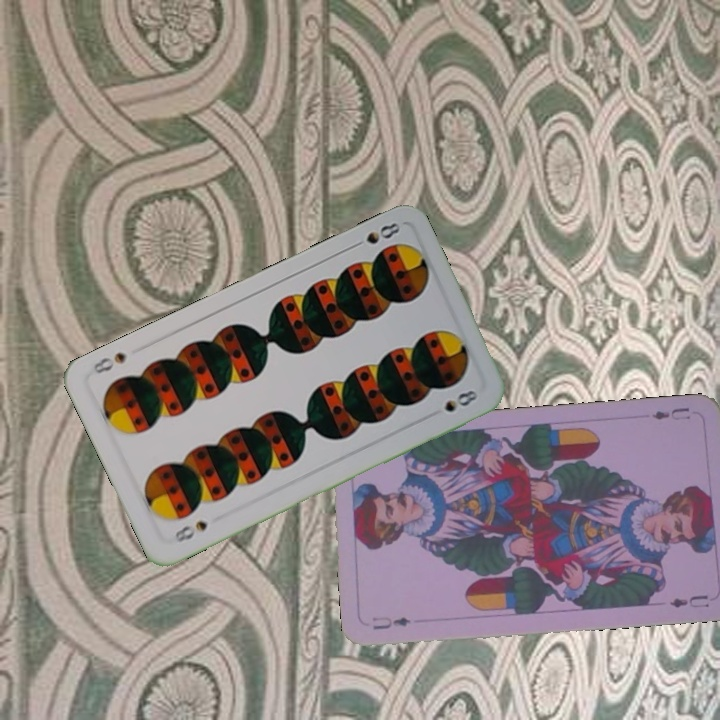EU: (648, 403, 693, 423), (368, 612, 413, 632)
S8: (347, 218, 404, 251), (171, 516, 211, 545)
